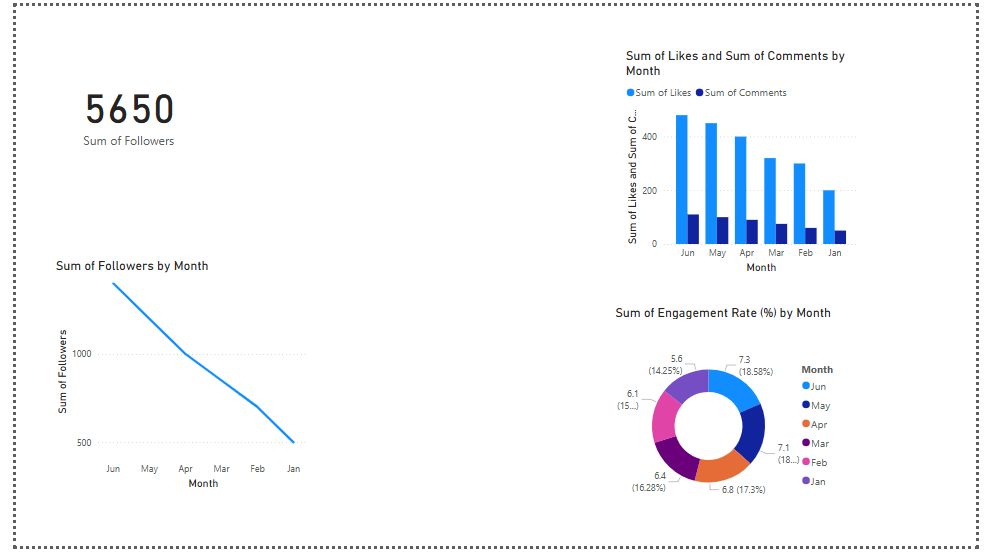

The page's visual inventory and layout, read from the dashboard file:
{"tool":"powerbi","page":{"name":"Page 1","canvas":[1280,720],"ordinal":0},"visuals":[{"type":"card","fields":{"Values":["Sum(SocialMediaData.Followers)"]},"box":[10,0,280,280],"z":0},{"type":"lineChart","fields":{"Category":["SocialMediaData.Month"],"Y":["Sum(SocialMediaData.Followers)"]},"box":[48,336,346,312],"z":1},{"type":"clusteredColumnChart","fields":{"Category":["SocialMediaData.Month"],"Y":["Sum(SocialMediaData.Likes)","Sum(SocialMediaData.Comments)"]},"box":[808,56,320,304],"z":2},{"type":"donutChart","fields":{"Y":["Sum(SocialMediaData.Engagement Rate (%))"],"Category":["SocialMediaData.Month"]},"box":[794,398,320,304],"z":3}]}

Visuals, with their boxes in screenshot pixels (x1, y1, x2, y2), scaled from the page's 1280x720 canvas onto the 992x557 screenshot:
card - Sum(SocialMediaData.Followers): bbox(8, 0, 225, 217)
lineChart - SocialMediaData.Month x Sum(SocialMediaData.Followers): bbox(37, 260, 305, 501)
clusteredColumnChart - SocialMediaData.Month x Sum(SocialMediaData.Likes): bbox(626, 43, 874, 278)
donutChart - Sum(SocialMediaData.Engagement Rate (%)) x SocialMediaData.Month: bbox(615, 308, 863, 543)
